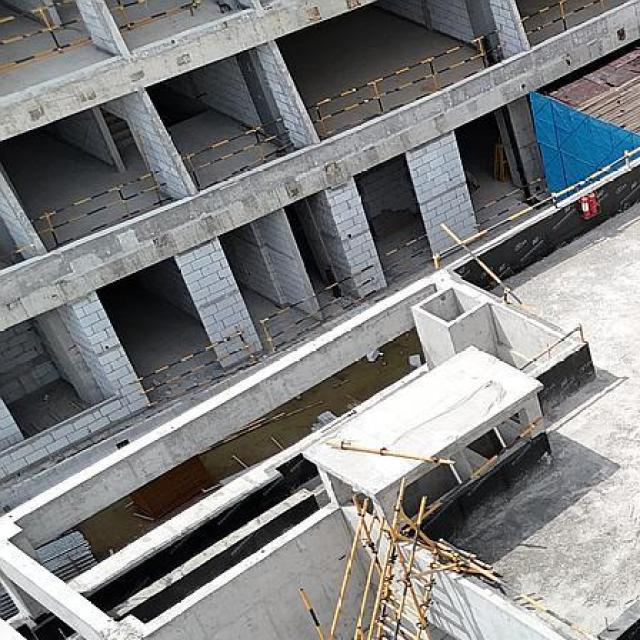edge_guardrail: (433, 146, 640, 287), (308, 28, 502, 141), (433, 540, 606, 640), (401, 422, 538, 537), (32, 169, 175, 252), (259, 264, 377, 354), (131, 329, 262, 408), (182, 117, 294, 192), (439, 222, 524, 305), (0, 0, 93, 73), (471, 177, 545, 229), (519, 323, 585, 371), (522, 0, 604, 36), (108, 0, 198, 30), (384, 233, 432, 280)
